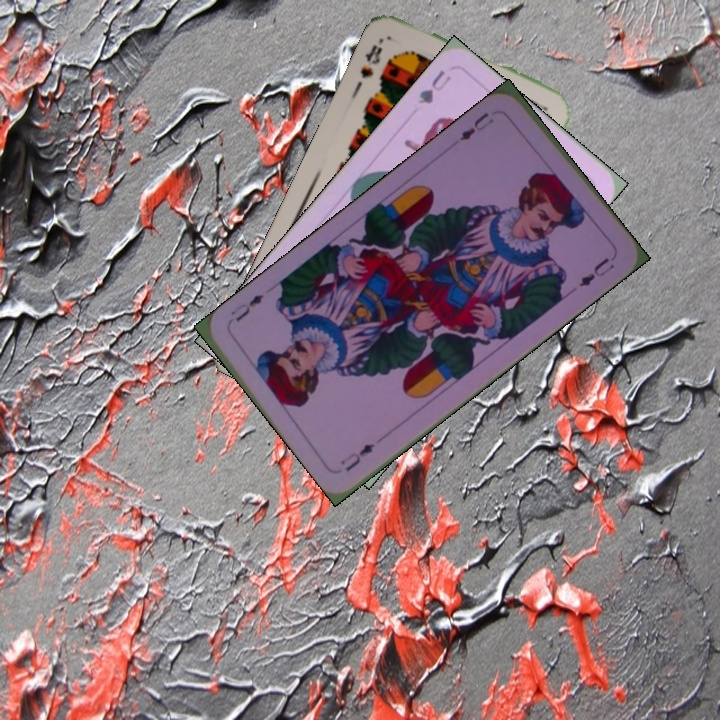EU: (336, 439, 377, 475), (456, 108, 496, 144)
GU: (413, 65, 454, 107)
S8: (356, 34, 386, 81)
